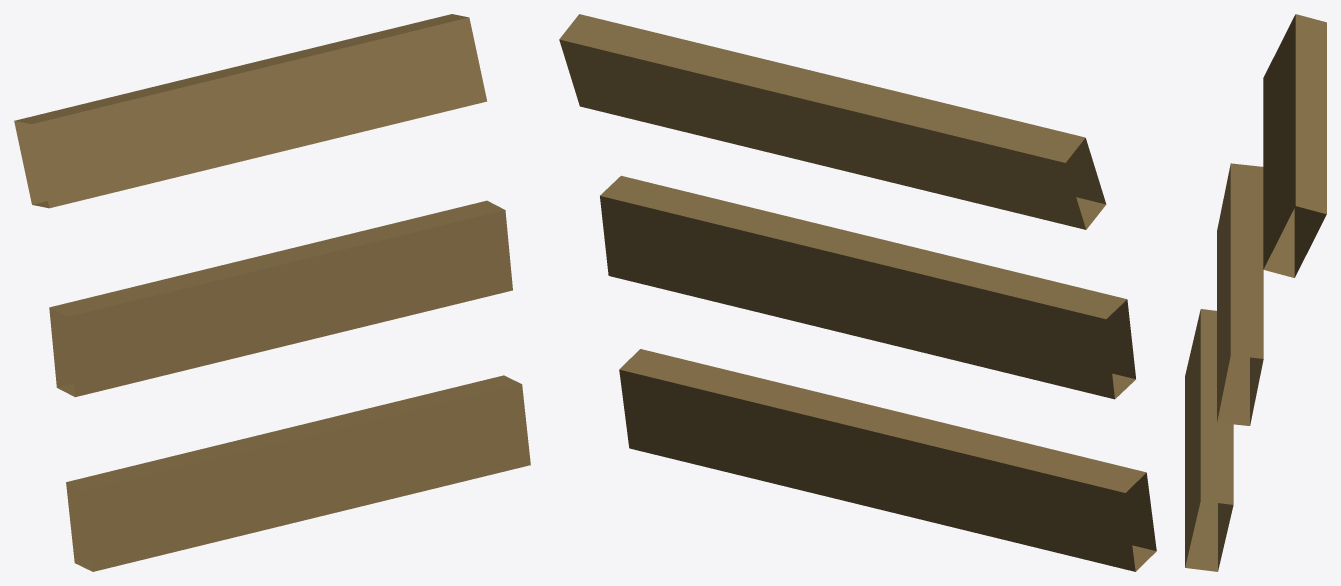
Rendered from Itr_Chair3_Back_01.FBX.
3 views of the same model, side by side, from view 1: azimuth 30°, elevation 25°; view 2: azimuth 150°, elevation 25°; view 3: azimuth 270°, elevation 25° (orthographic). The views are drawn at different scales.
Visible parts, largest first — view 1: Itr_Chair3_Back_01; view 2: Itr_Chair3_Back_01; view 3: Itr_Chair3_Back_01.
Boxes of the visible parts, left/top/right/bottom form: Itr_Chair3_Back_01: left=14, top=14, right=530, bottom=571; Itr_Chair3_Back_01: left=559, top=14, right=1156, bottom=571; Itr_Chair3_Back_01: left=1185, top=14, right=1326, bottom=571.
Size of the model in its own units: 12.02 by 10.68 by 3.75.
